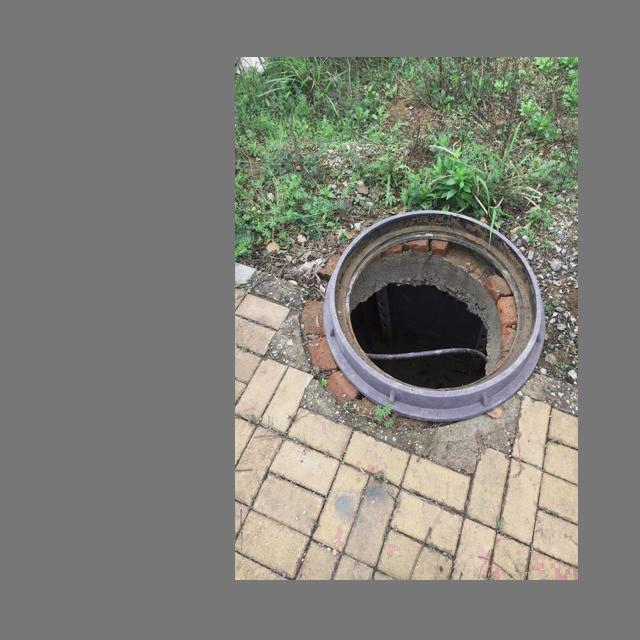lose: (323, 210, 547, 423)
